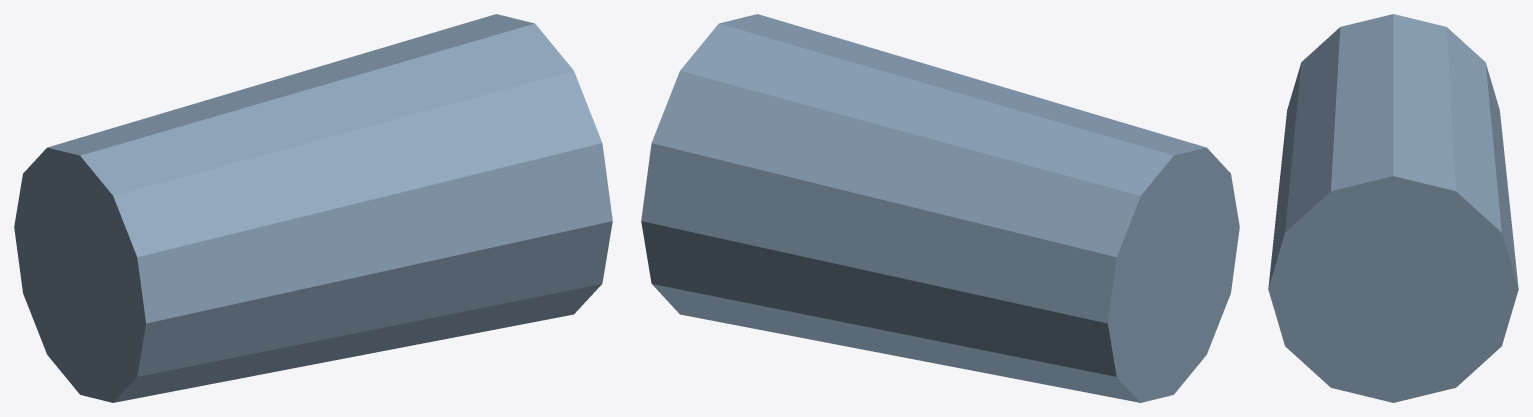
The model's file is bone_4.obj.
3 views of the same model, side by side, from view 1: azimuth 30°, elevation 25°; view 2: azimuth 150°, elevation 25°; view 3: azimuth 270°, elevation 25° (orthographic). The views are drawn at different scales.
Parts seen in each view (by area): view 1: bone_4; view 2: bone_4; view 3: bone_4.
Boxes of the visible parts, bbox=[...] form: bone_4: bbox=[14, 14, 612, 402]; bone_4: bbox=[641, 14, 1239, 402]; bone_4: bbox=[1268, 14, 1518, 402].
Bounding box in the file's own units: 0.0305 × 0.018 × 0.018.
